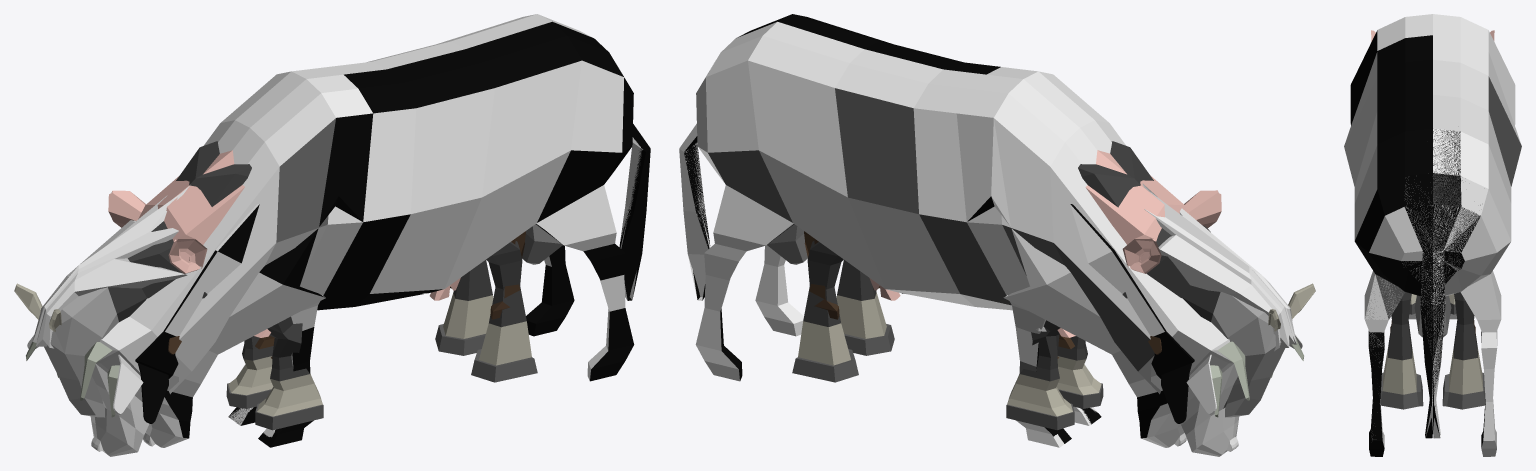
Rendered from animals2.fbx.
The picture shows the model from 3 angles, left to right: view 1: azimuth 30°, elevation 25°; view 2: azimuth 150°, elevation 25°; view 3: azimuth 270°, elevation 25°; orthographic projection. The views are drawn at different scales.
Parts seen in each view (by area): view 1: cow02.001, cow04.001, horse01.001, pig01.002, calf05.001; view 2: cow04.001, horse01.001, cow02.001, pig01.002, calf05.001; view 3: cow02.001, cow04.001, horse01.001.
Boxes of the visible parts, box(x1,y1,x2,y2) form: cow02.001: box(57, 21, 650, 447); cow04.001: box(26, 14, 642, 456); horse01.001: box(14, 141, 562, 430); pig01.002: box(108, 150, 460, 337); calf05.001: box(168, 231, 525, 358); cow04.001: box(679, 21, 1303, 456); horse01.001: box(767, 141, 1315, 430); cow02.001: box(684, 14, 1272, 447); pig01.002: box(869, 150, 1221, 337); calf05.001: box(804, 231, 1161, 358); cow02.001: box(1344, 14, 1515, 456); cow04.001: box(1350, 14, 1521, 456); horse01.001: box(1380, 292, 1485, 409).
Size of the model in its own units: 197 by 105 by 53.23.
